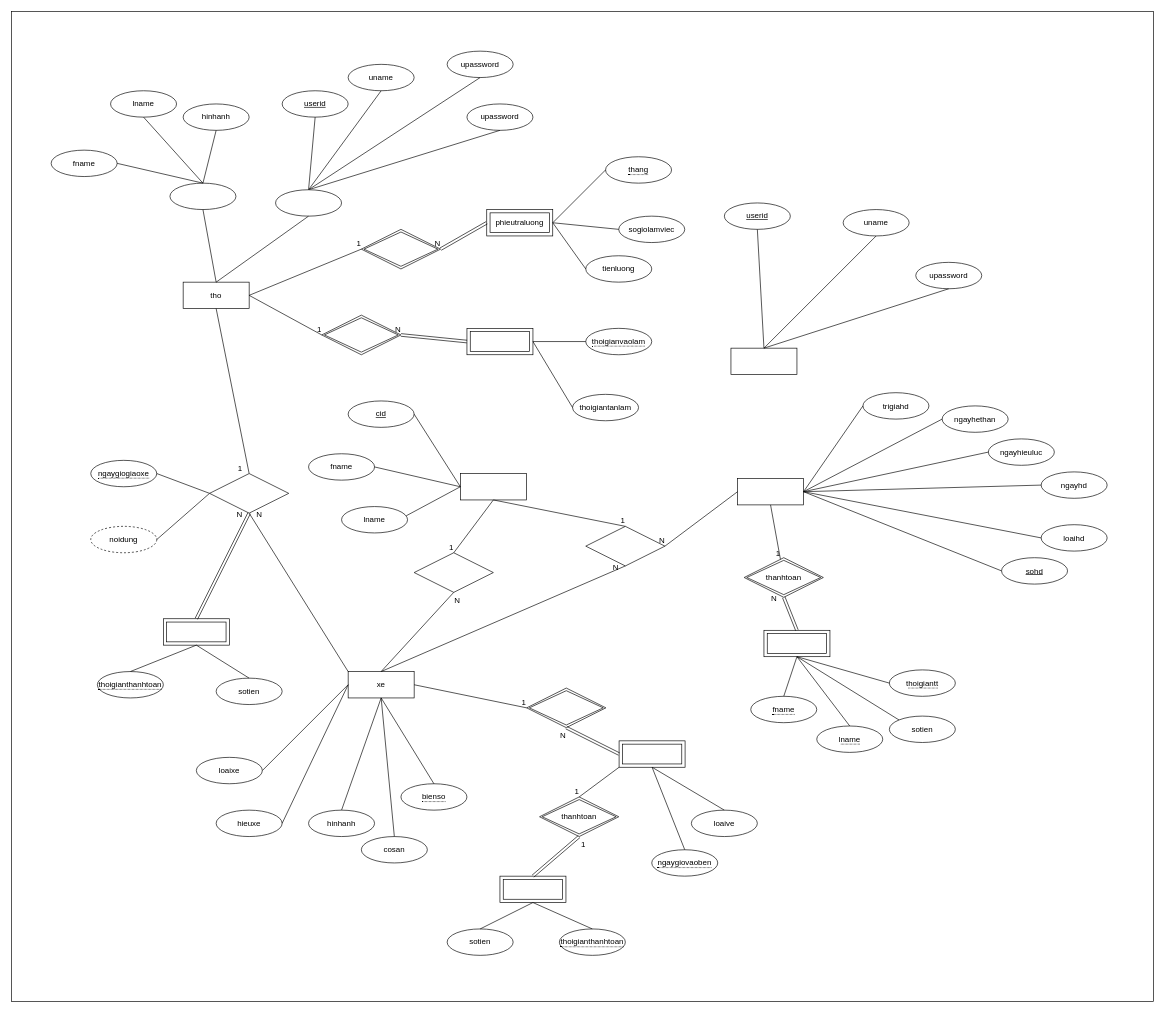
The diagram is 1165 pixels wide and 1013 high, and some of its shapes have lost their labels. The shapes that lost their labels are listed below. From the top down, each one's box as (x1, y1, x2, y2) in pixels, then its label:
(169, 182, 236, 210): tho_infos
(275, 189, 342, 216): tho_accounts
(361, 229, 441, 269): Relationship
(321, 314, 401, 355): chamcong
(466, 328, 533, 355): bangchamcong
(730, 347, 797, 375): admin_accounts
(209, 473, 289, 513): chamsocxe
(460, 473, 526, 500): khachhang
(737, 478, 804, 505): chitiethd
(585, 526, 665, 566): hopdong
(413, 552, 493, 592): sohuuxe
(163, 618, 229, 645): thantoancsx
(763, 630, 830, 657): thanhtoanhd
(526, 687, 606, 728): guixe
(618, 740, 685, 767): vexe
(499, 875, 566, 903): thanhtoanvexe
